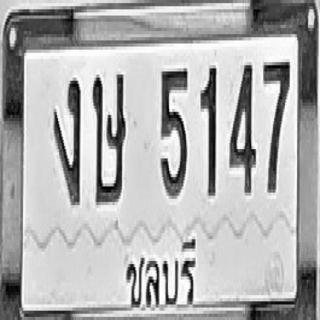A07: (53, 76, 80, 204)
A39: (92, 70, 126, 204)
N01: (199, 64, 216, 194)
N04: (229, 62, 255, 193)
N05: (160, 65, 188, 196)
N07: (263, 58, 289, 191)
P13: (123, 228, 196, 313)
